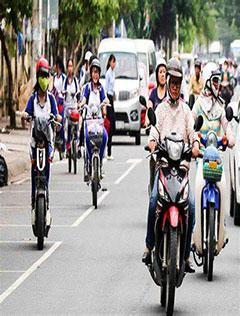bicycle: (15, 106, 82, 248), (69, 94, 112, 212)
motorcycle: (128, 98, 202, 316), (182, 104, 238, 296)
